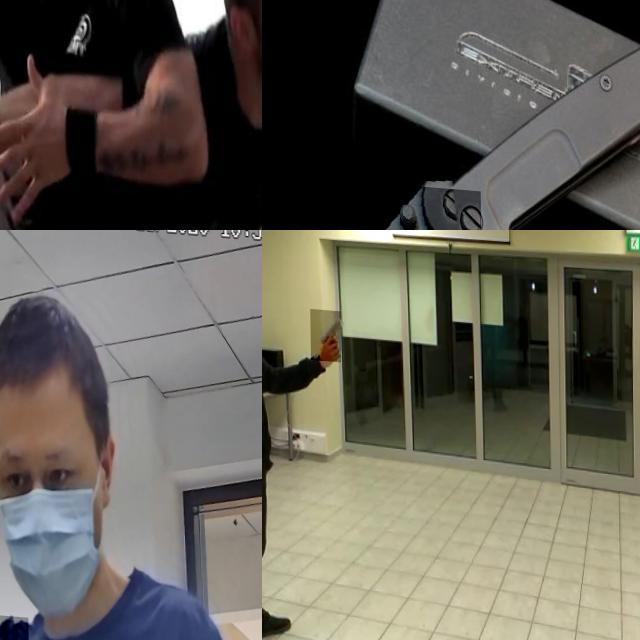-: (0, 103, 52, 222)
gun-knife-thesis - v11 Yolov5 augmented: (309, 307, 340, 360)
